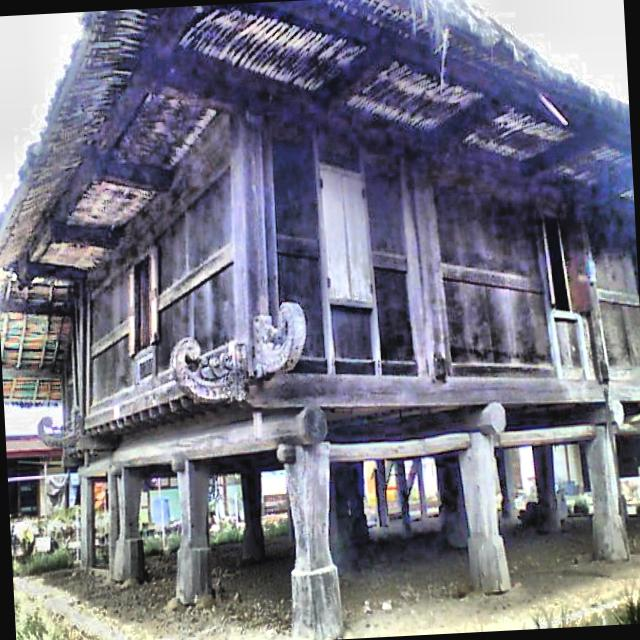column: (283, 443, 343, 640), (457, 431, 511, 594), (584, 425, 630, 563), (177, 460, 212, 605), (330, 462, 370, 572), (113, 468, 145, 583), (532, 445, 560, 533), (242, 472, 265, 559), (108, 474, 122, 579), (80, 476, 96, 567), (496, 450, 517, 519)
ornamen: (170, 303, 306, 405), (38, 416, 65, 448)
roof: (0, 0, 635, 401)
wall: (63, 95, 640, 457)
window: (316, 162, 376, 307), (542, 214, 593, 319), (127, 250, 159, 356)
